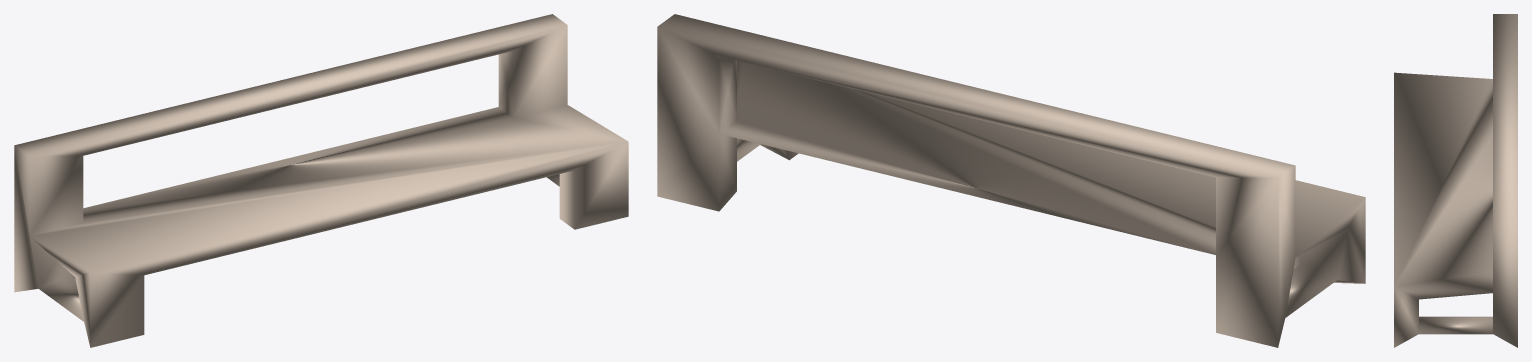
Rendered from bench_a_lod1.glb.
3 views of the same model, side by side, from view 1: azimuth 30°, elevation 25°; view 2: azimuth 150°, elevation 25°; view 3: azimuth 270°, elevation 25° (orthographic). The views are drawn at different scales.
Size of the model in its own units: 1.8 by 0.47 by 0.44.
